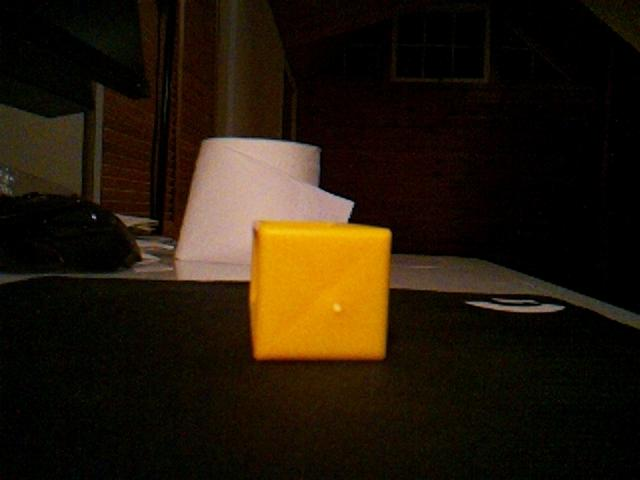yellow: (248, 218, 393, 363)
